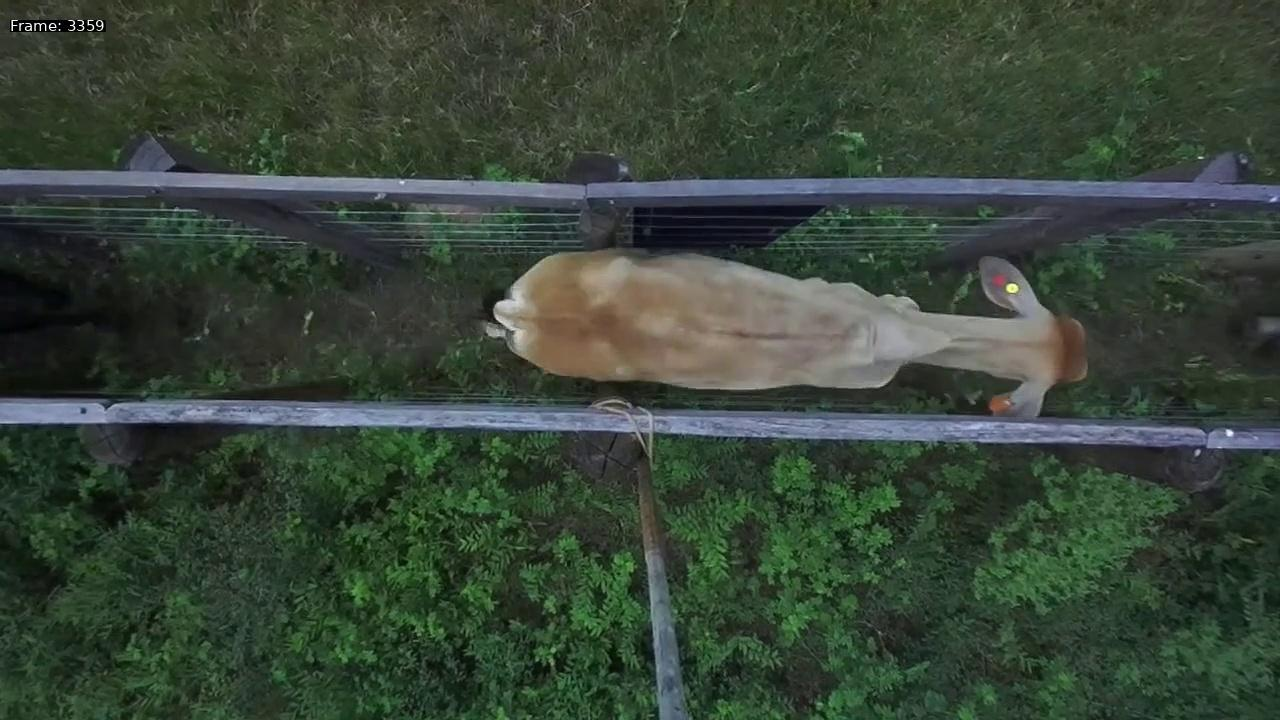cattle: (475, 225, 1105, 432)
